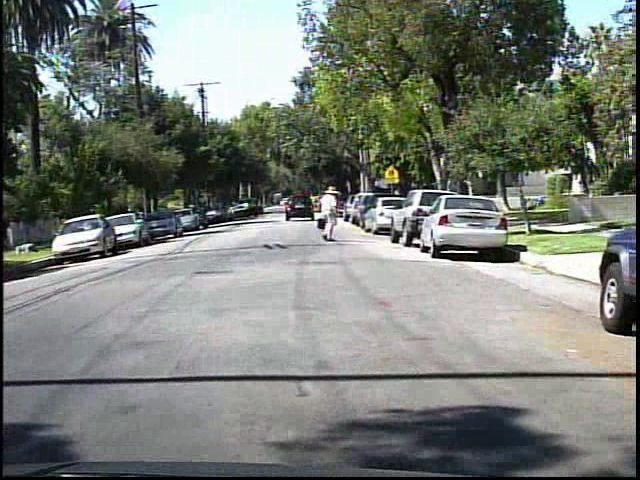person: (313, 184, 345, 244)
